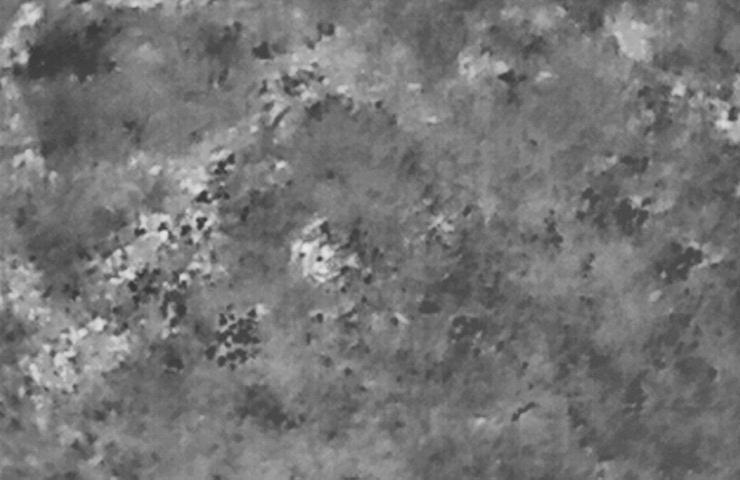landmines: (295, 237, 347, 287)
